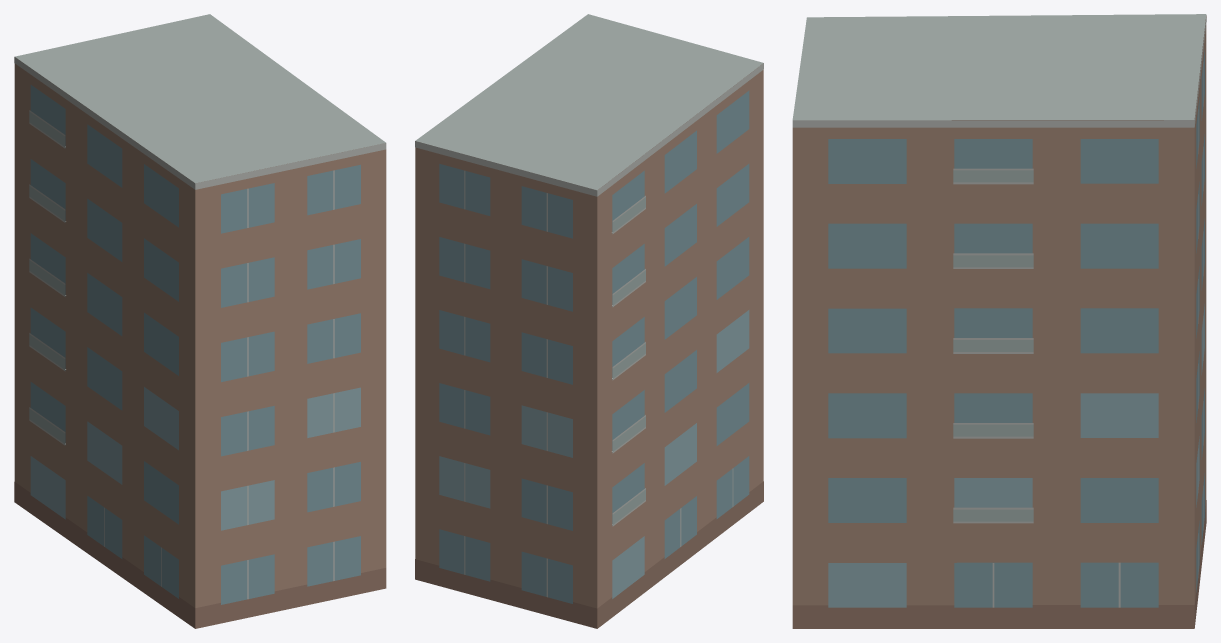
Rendered from survey-upis-33038654.glb.
3 views of the same model, side by side, from view 1: azimuth 30°, elevation 25°; view 2: azimuth 150°, elevation 25°; view 3: azimuth 270°, elevation 25° (orthographic). The views are drawn at different scales.
Parts seen in each view (by area): view 1: survey-upis-33038654.tmp; view 2: survey-upis-33038654.tmp; view 3: survey-upis-33038654.tmp.
Part boxes in pixels (x1,y1,x2,y2): survey-upis-33038654.tmp: (14,14,386,628); survey-upis-33038654.tmp: (415,14,763,628); survey-upis-33038654.tmp: (792,14,1206,628).
Bounding box in the file's own units: 7.48 × 16.6 × 12.25.
